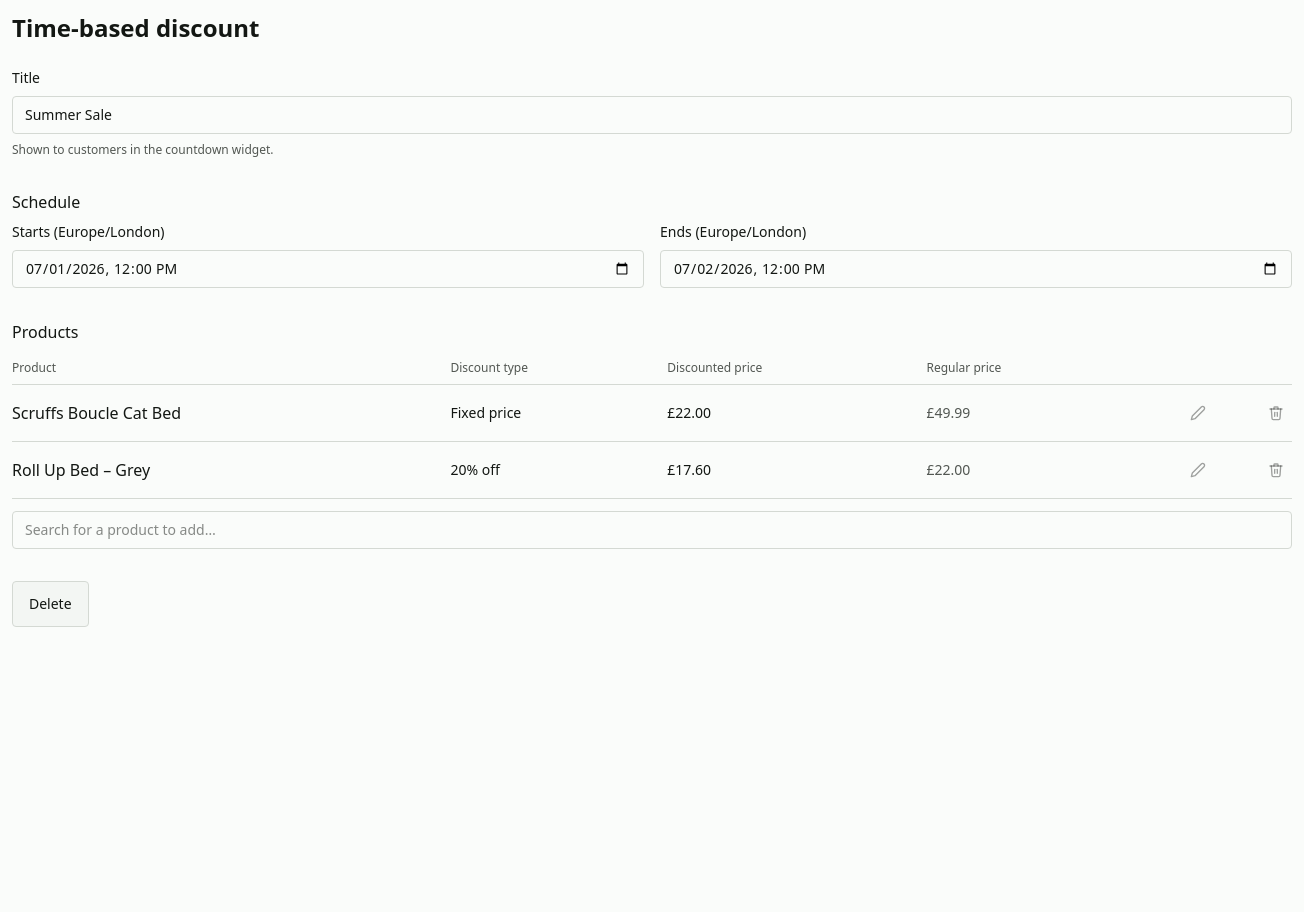
Scenario: TimeDiscountEditor — title › saves when the field loses focus, then shows the Saved pill
Replace the text in the field labelled "Title" with "  Winter Sale ": (652, 115) [12, 96, 1292, 134]
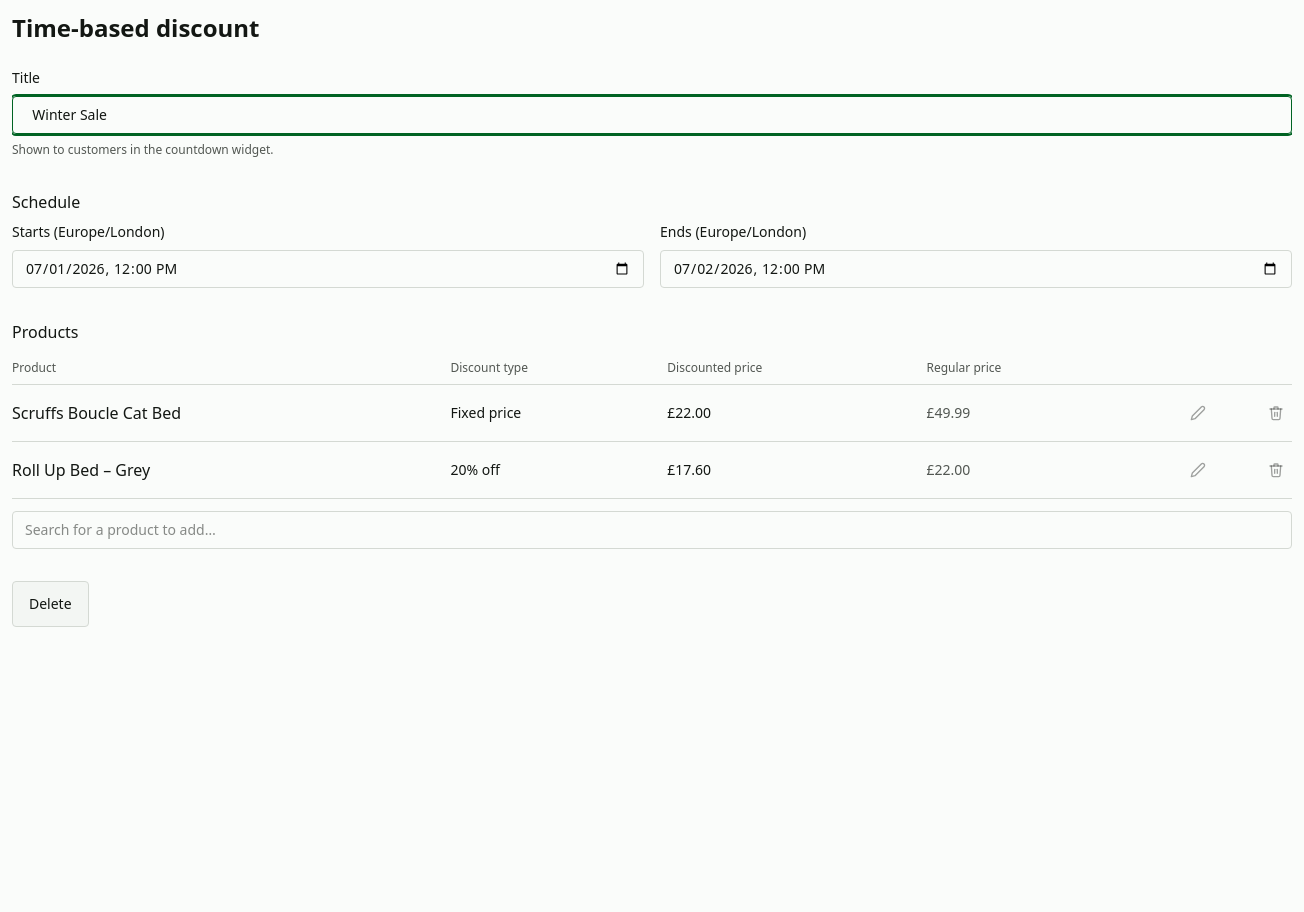
Press Tab
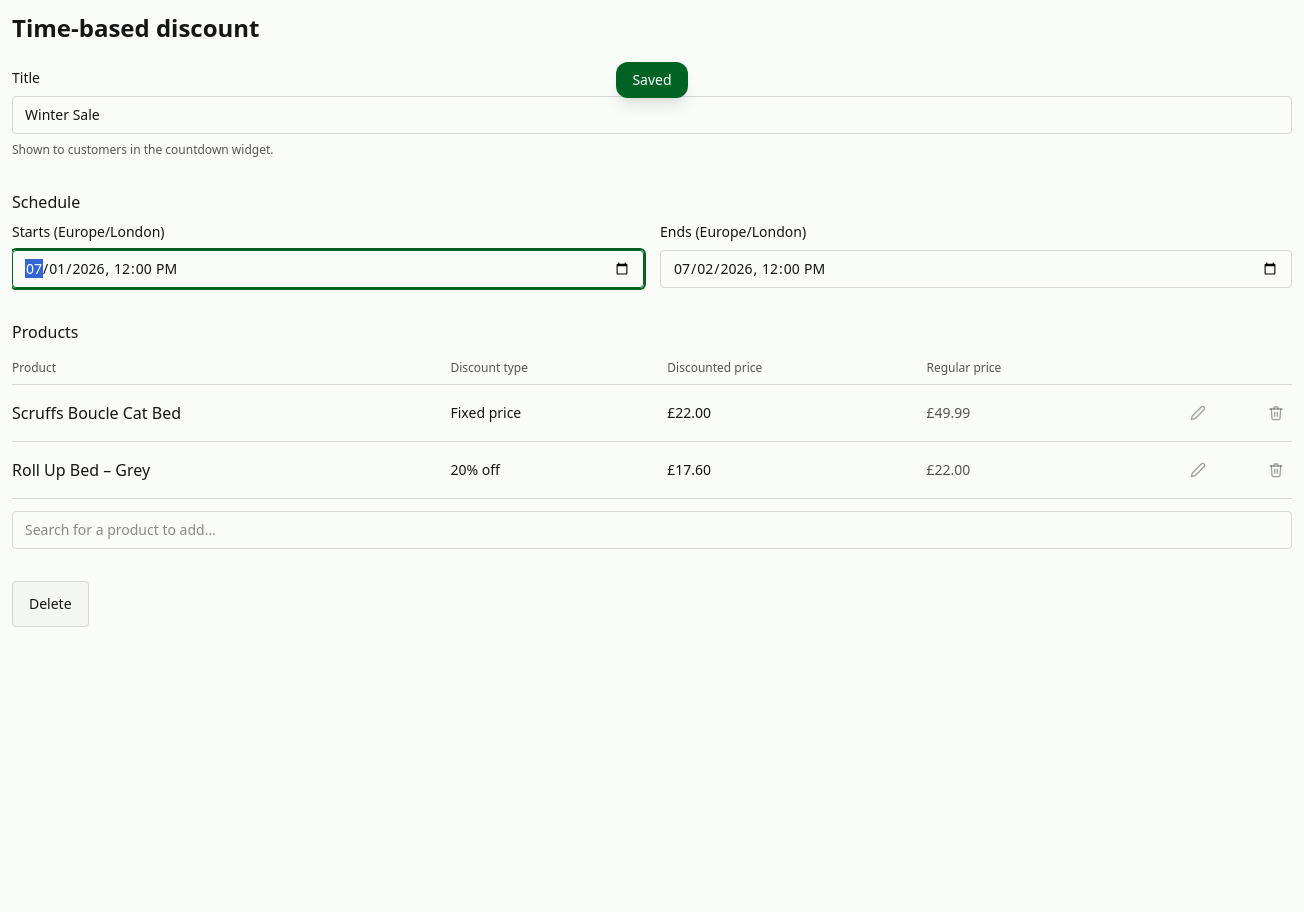
Check: the text "Saved" is shown, box [616, 62, 688, 98]
